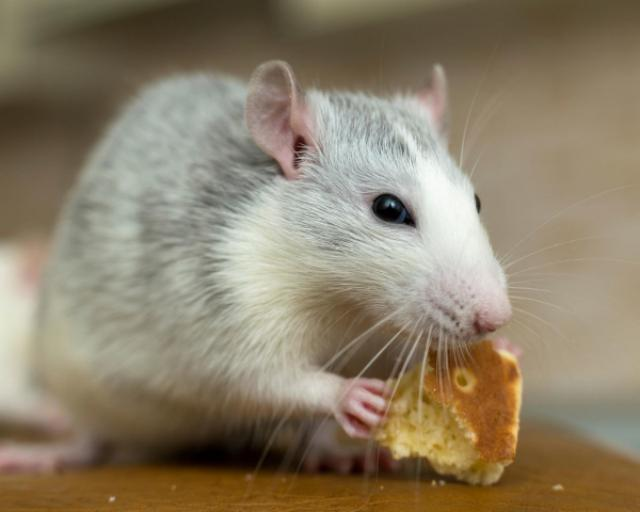rat: (22, 54, 518, 444)
